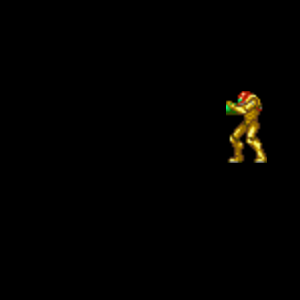Collectible: (226, 91, 267, 163)
